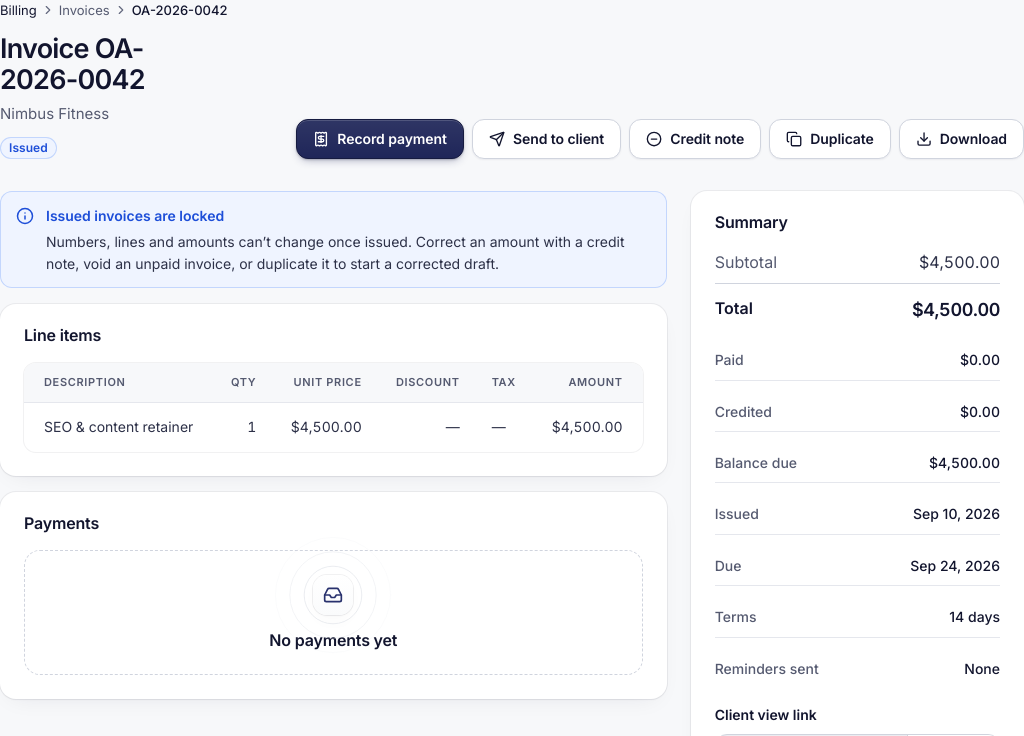
Test: Record payment › explains a concurrent payment by someone else and offers a refresh
Step 1. Click the button "Record payment" → (380, 139), box [296, 119, 464, 159]
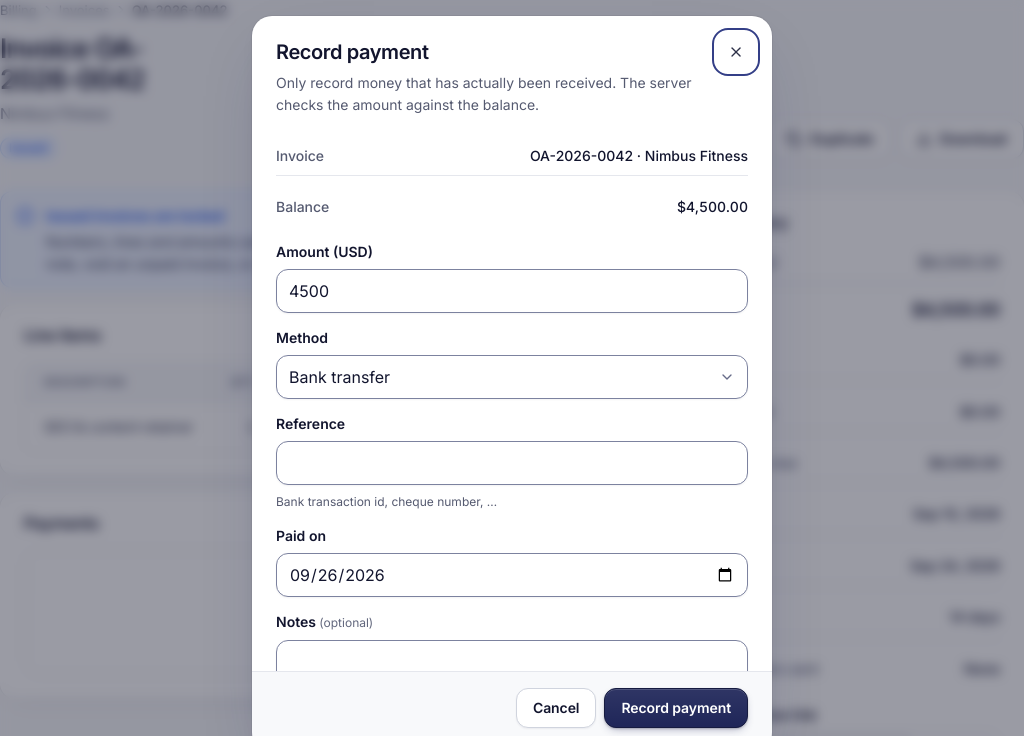
Step 2. Type "WIRE-1" into the field labelled "Reference" → (512, 463), box [276, 441, 748, 485]
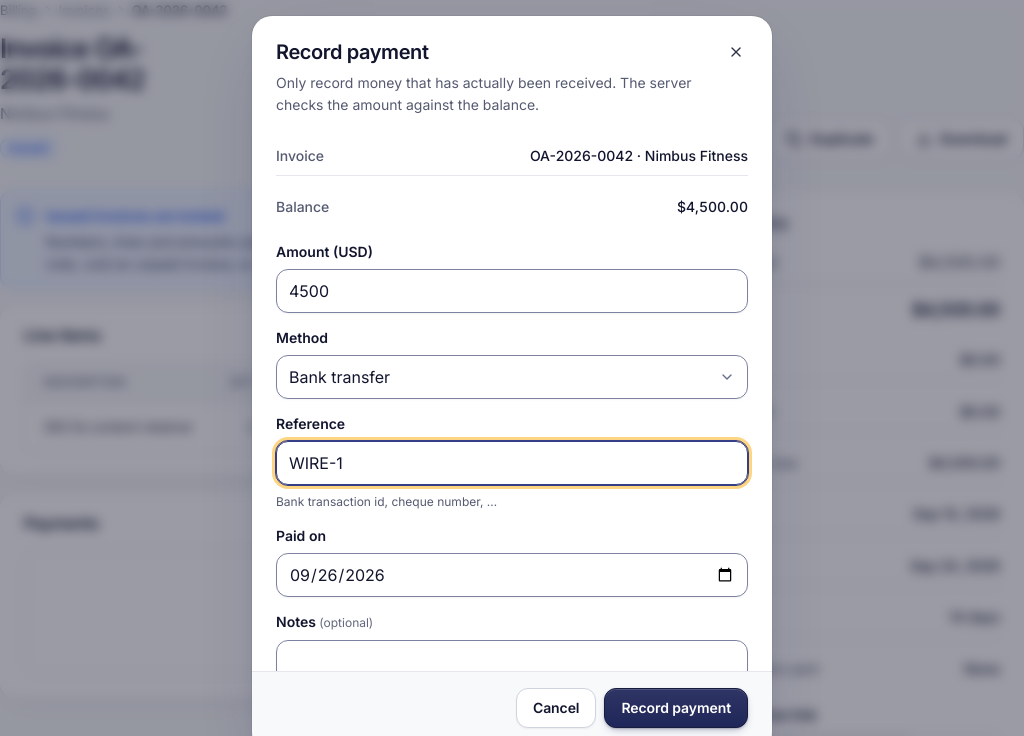
Step 3. Click the button "Record payment" → (676, 708), box [604, 688, 748, 728]
(page scrolled)
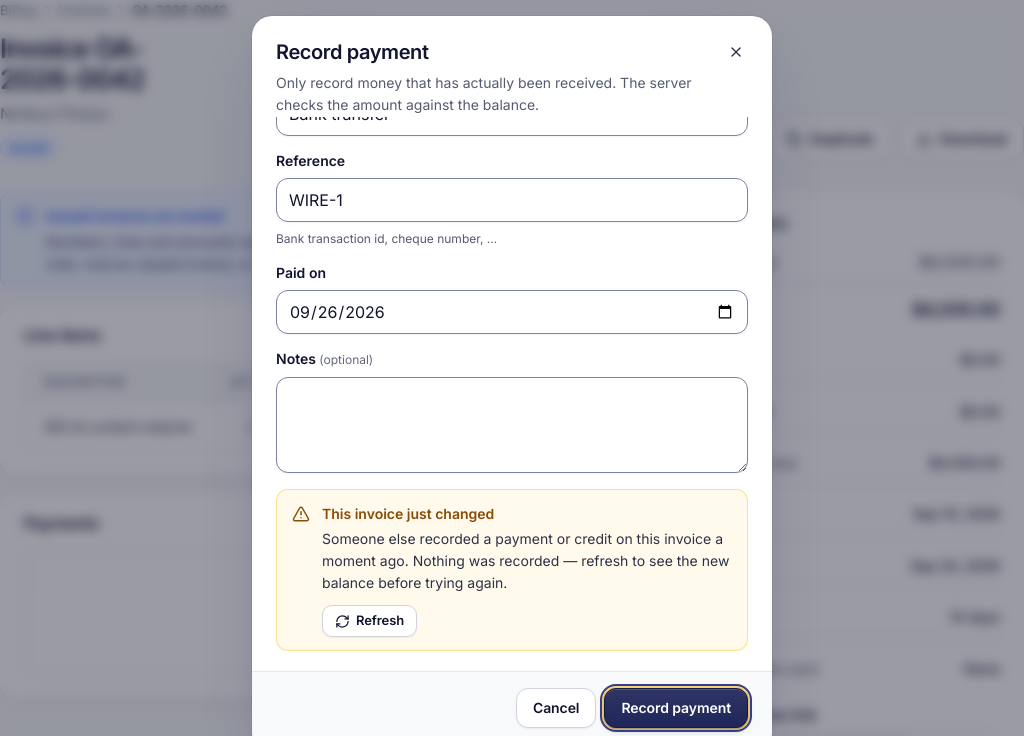
Expected: the text "This invoice just changed" is shown, [322, 504, 494, 522]
Expected: the button "Refresh" is shown, [322, 605, 417, 637]
